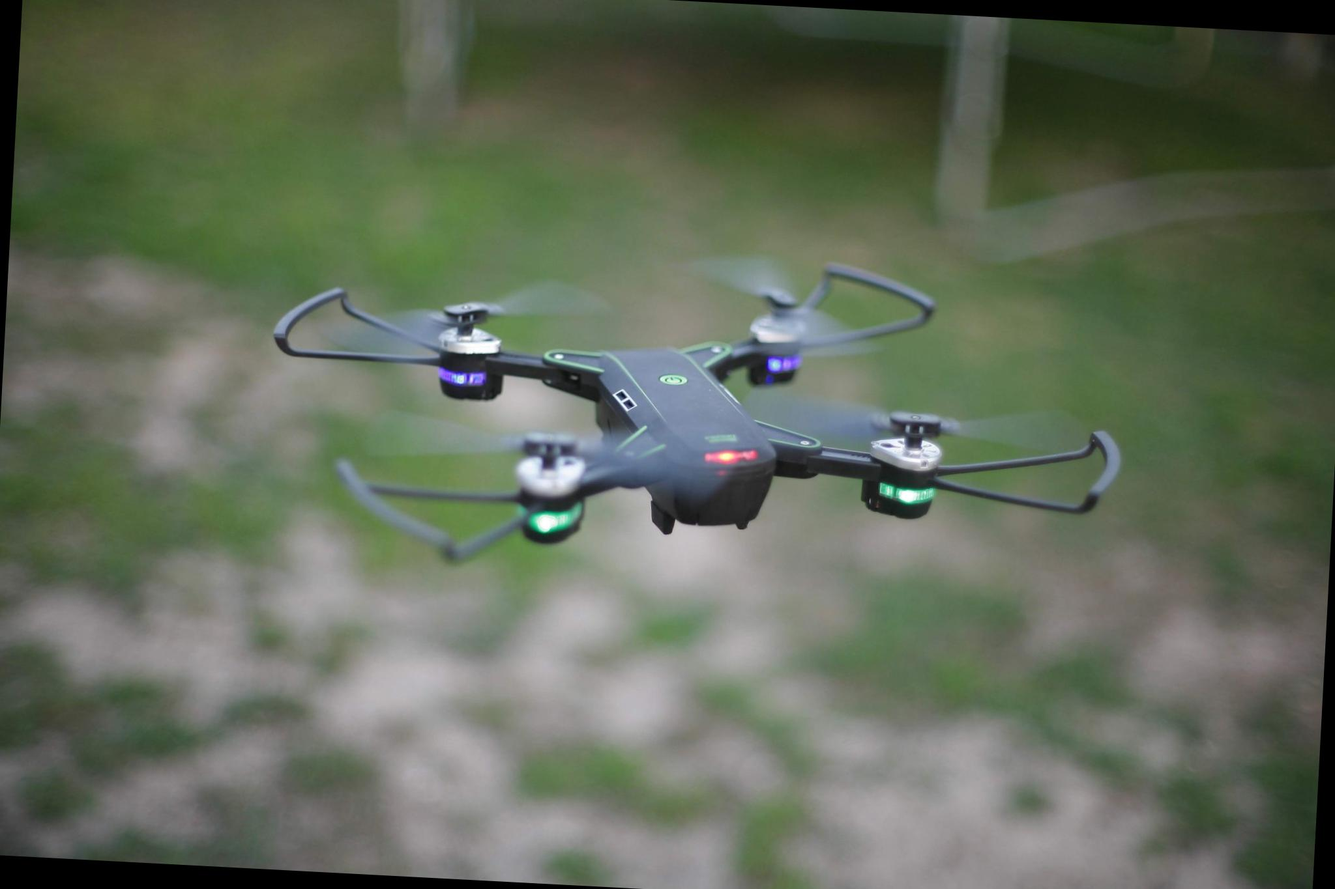drone: (246, 221, 1146, 583)
